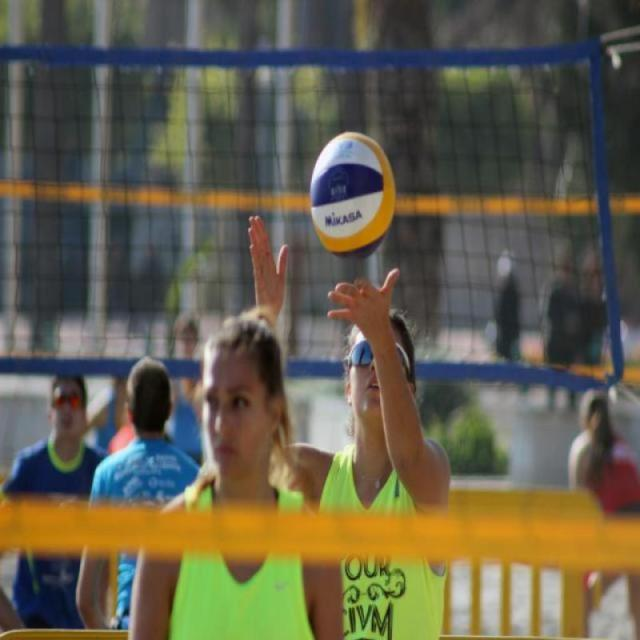volleyball: (308, 130, 396, 261)
